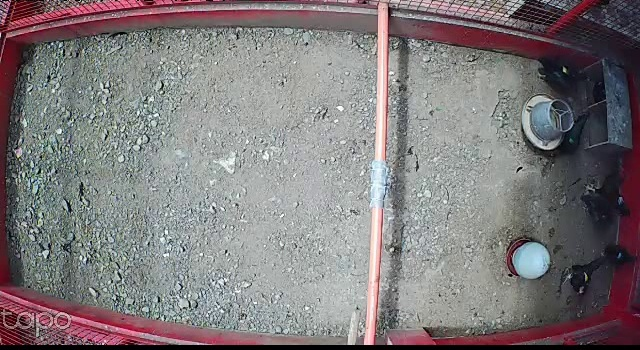Chicken: (534, 56, 591, 94), (561, 255, 602, 296), (557, 111, 588, 154), (602, 243, 639, 268)
Rooster: (585, 165, 633, 218)
Saddle_Color_Yellow: (561, 65, 571, 76), (583, 271, 589, 281)
